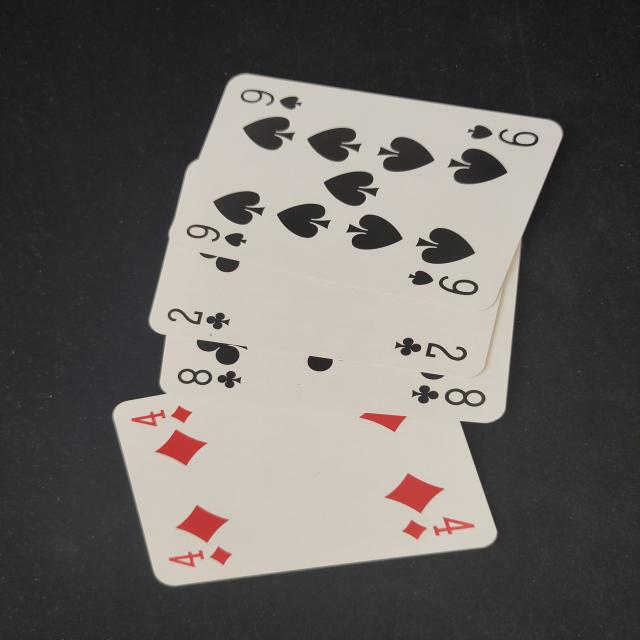2c: (383, 333, 474, 372), (156, 299, 246, 336)
4d: (393, 508, 489, 546), (158, 541, 240, 574), (119, 401, 202, 433)
8c: (397, 375, 502, 416), (169, 361, 249, 398)
9s: (394, 262, 492, 305), (173, 218, 263, 258), (459, 119, 549, 158), (232, 81, 308, 115)
